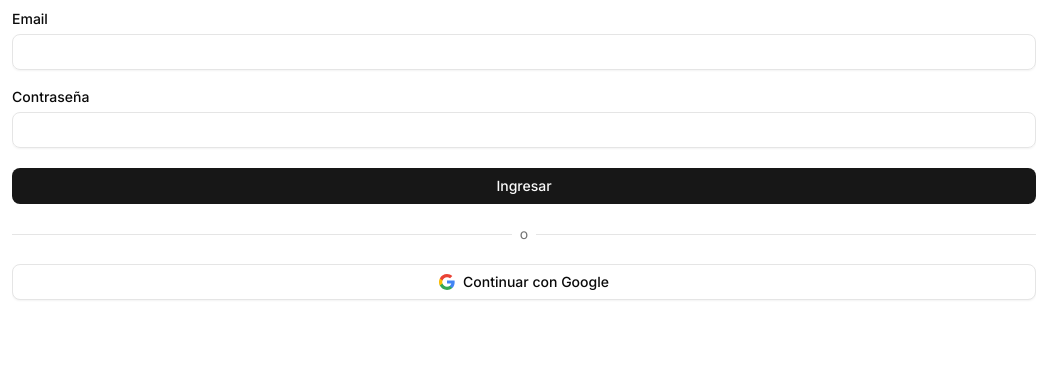
Test: LoginForm › shows the server error after a failed submit
Type "bad@example.com" into the field labelled "Email" at (524, 52), box [12,34,1036,70]
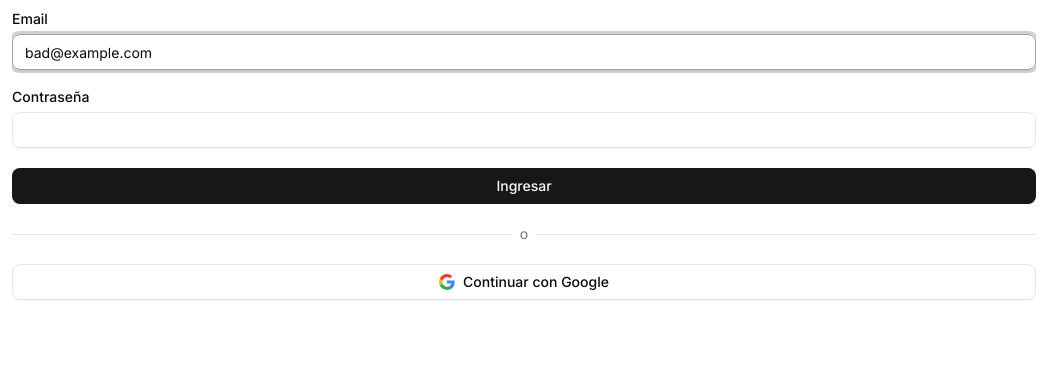
Type "wrong" into the password field labelled "Contraseña" at (524, 130), box [12,112,1036,148]
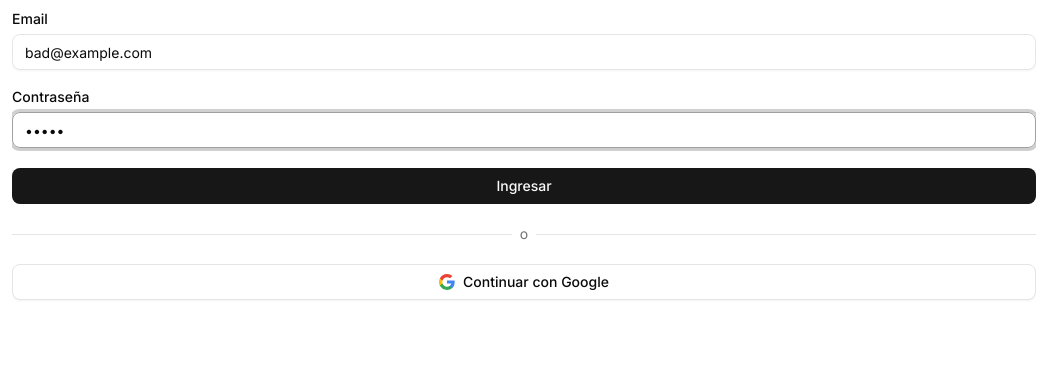
Click the button "Ingresar" at (524, 186), box [12,168,1036,204]
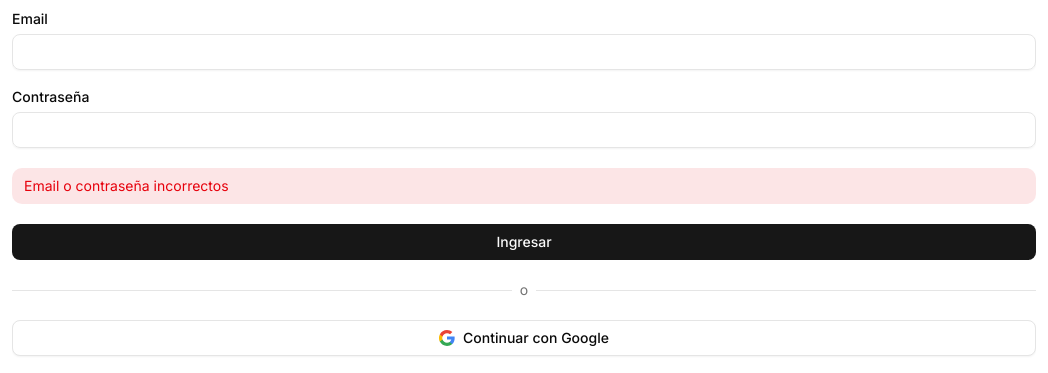
Expected: the text "Email o contraseña incorrectos" is shown, [12,168,1036,204]
